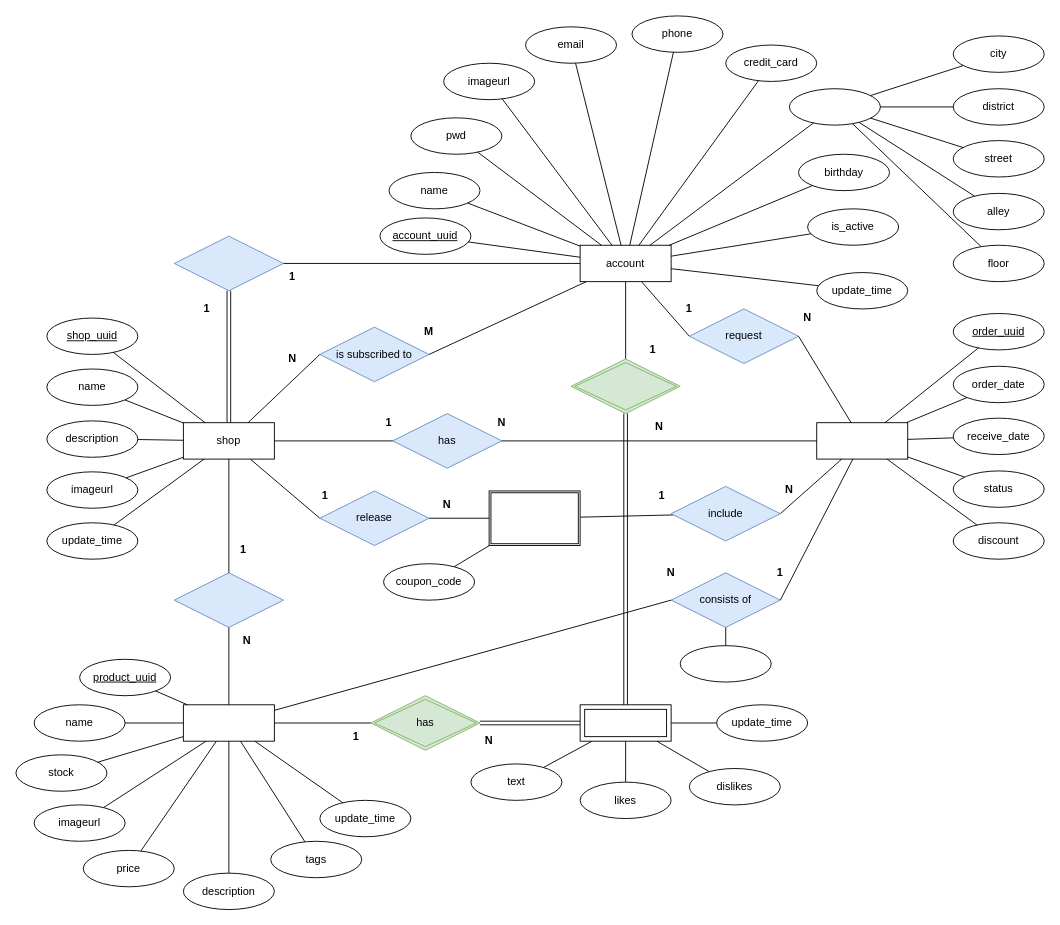
The diagram is 1060 pixels wide and 925 high, and some of its shapes have lost their labels. The shapes that lost their labels are listed below. From the top down, each one's centre as x and y in pixels, then its label:
At pixel 834 106: "address".
At pixel 228 263: "create".
At pixel 625 386: "write".
At pixel 862 440: "order".
At pixel 534 518: "coupon".
At pixel 228 599: "sells".
At pixel 725 663: "quantity".
At pixel 228 722: "product".
At pixel 625 722: "comment".
